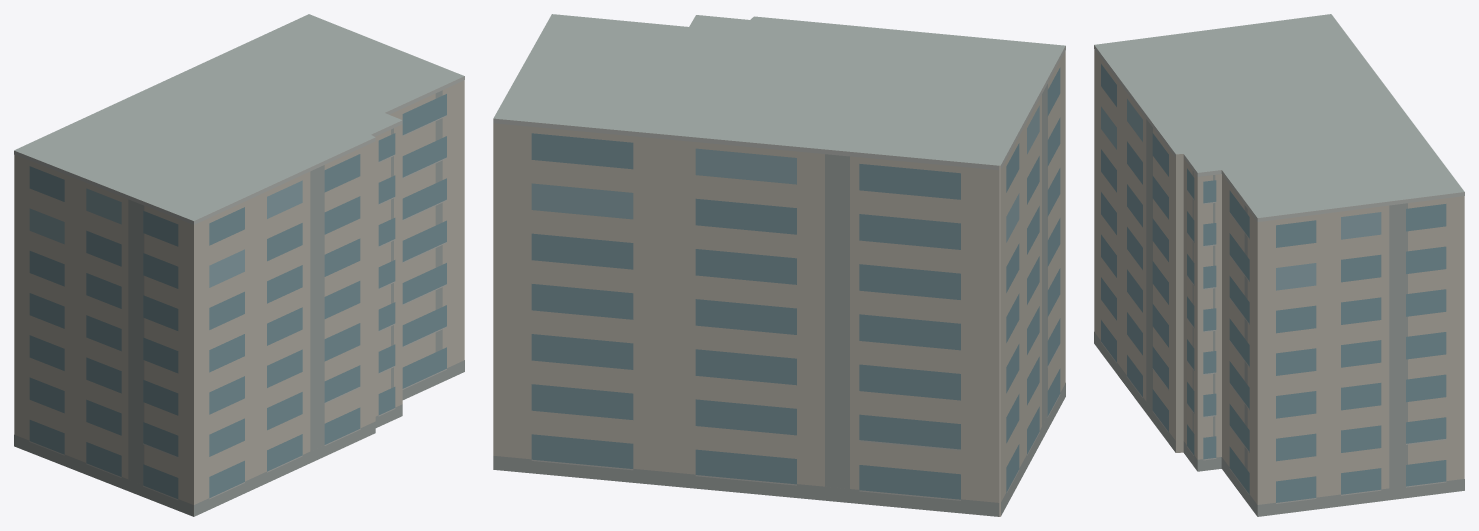
The model's file is survey-upis-32618050.glb.
The picture shows the model from 3 angles, left to right: view 1: azimuth 30°, elevation 25°; view 2: azimuth 150°, elevation 25°; view 3: azimuth 270°, elevation 25°; orthographic projection. The views are drawn at different scales.
Parts seen in each view (by area): view 1: survey-upis-32618050.tmp; view 2: survey-upis-32618050.tmp; view 3: survey-upis-32618050.tmp.
Part boxes in pixels (x1,y1,x2,y2): survey-upis-32618050.tmp: (14, 14, 464, 516); survey-upis-32618050.tmp: (493, 14, 1065, 516); survey-upis-32618050.tmp: (1094, 14, 1464, 516).
Bounding box in the file's own units: 26.69 × 18.2 × 20.47.
